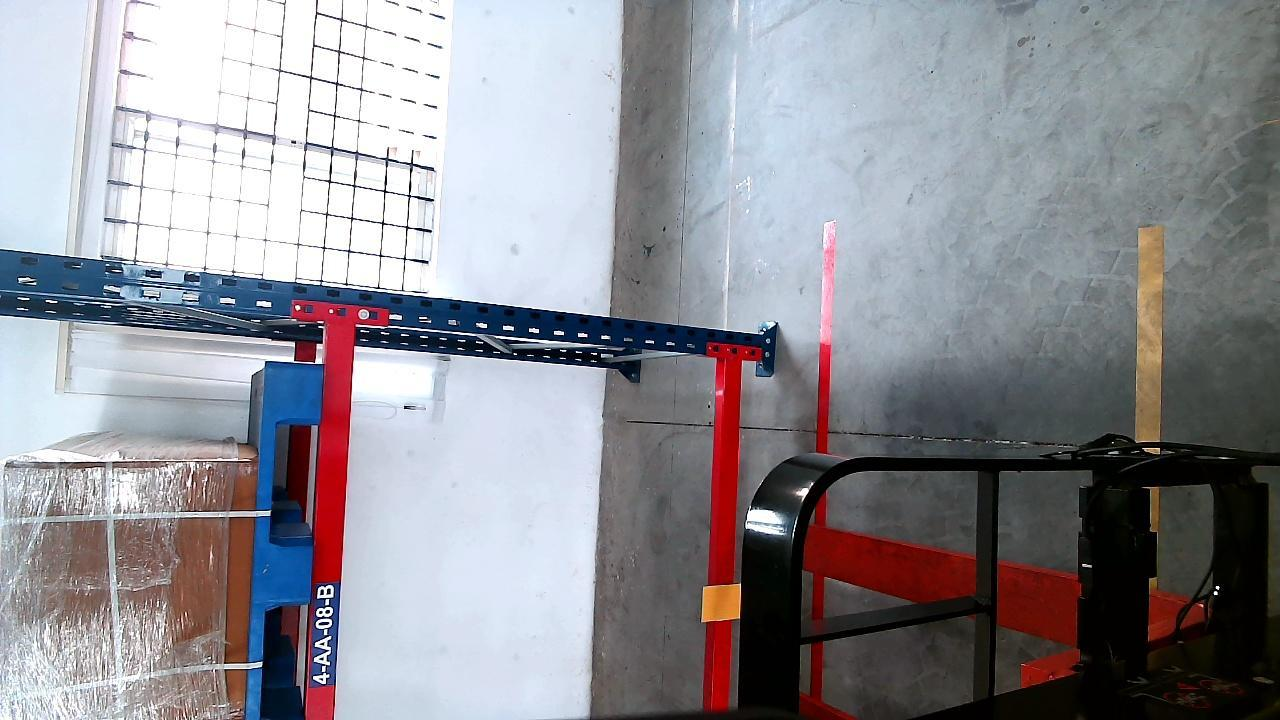red_line: (816, 224, 837, 452)
yellow_line: (1137, 220, 1163, 445)
